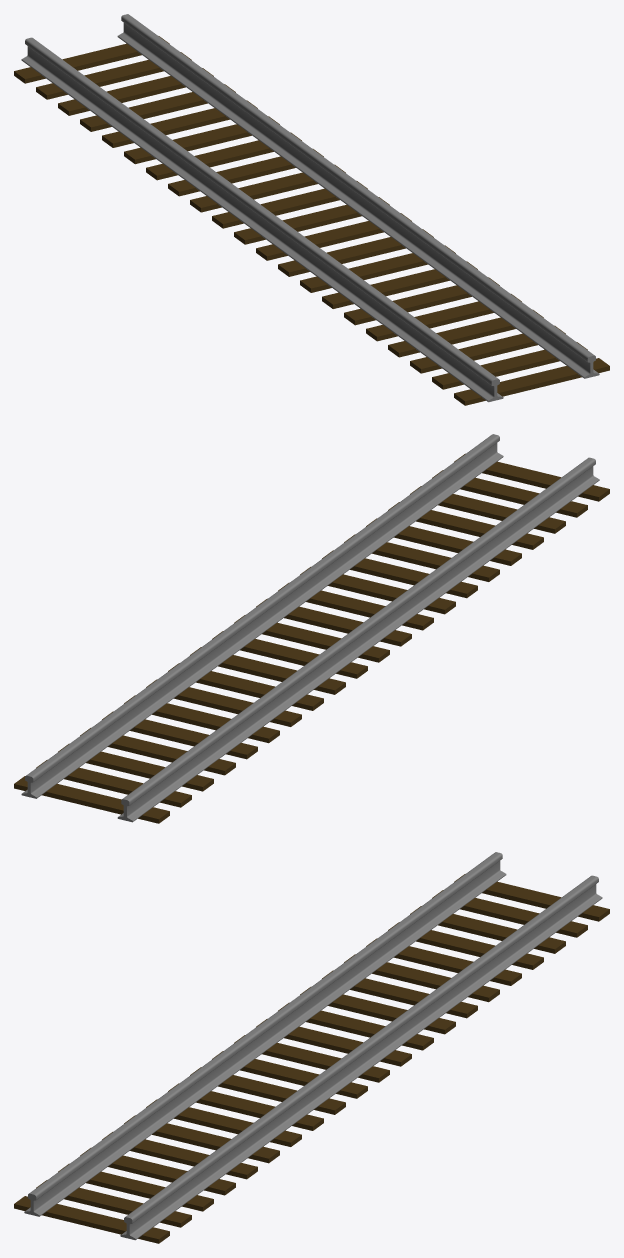
Rendered from Rails straight.fbx.
The picture shows the model from 3 angles, top to bottom: view 1: azimuth 30°, elevation 25°; view 2: azimuth 150°, elevation 25°; view 3: azimuth 330°, elevation 25°; orthographic projection.
Parts seen in each view (by area): view 1: Cube.002; view 2: Cube.002; view 3: Cube.002.
Boxes of the visible parts, x1,y1,x2,y2 form: Cube.002: (14,14,609,405); Cube.002: (14,434,609,823); Cube.002: (14,852,609,1243).
Size of the model in its own units: 2714 by 446 by 15139.
